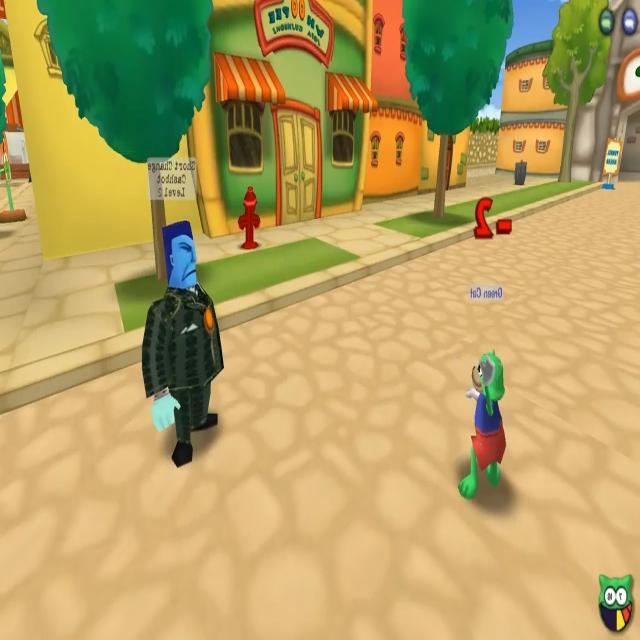shortchange: (139, 154, 228, 460)
